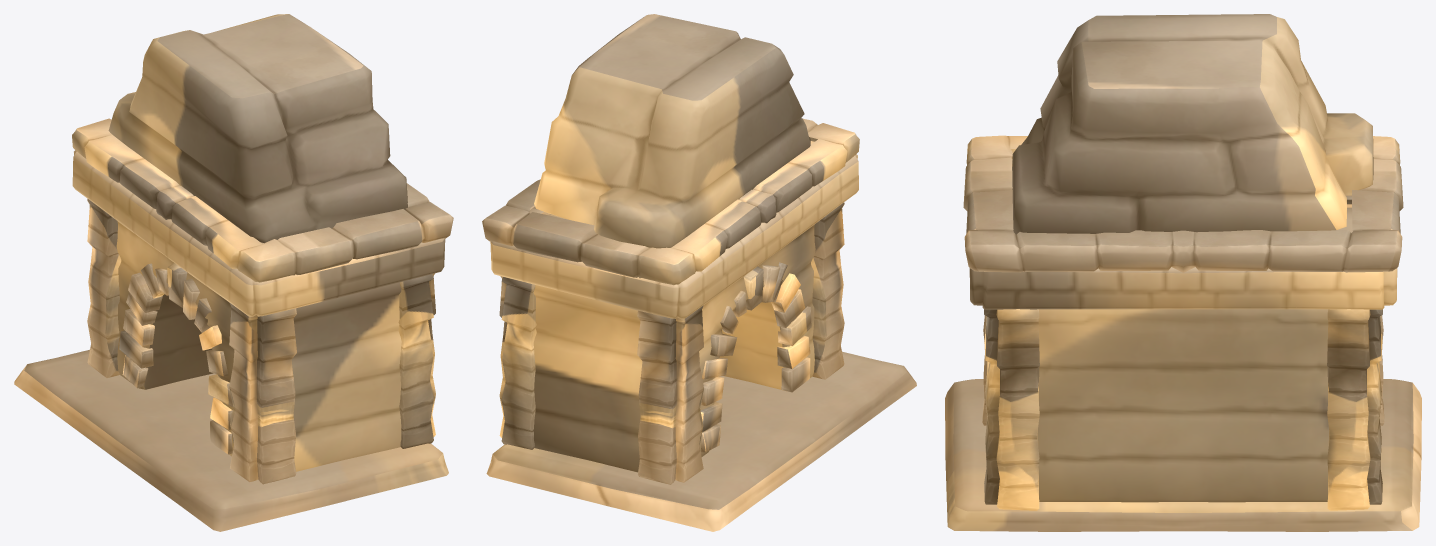
Rendered from SM_Fireplace.fbx.
3 renders of one model, left to right at view 1: azimuth 30°, elevation 25°; view 2: azimuth 150°, elevation 25°; view 3: azimuth 270°, elevation 25°, orthographic. The views are drawn at different scales.
Visible parts, largest first — view 1: SM_Fireplace_LOD0; view 2: SM_Fireplace_LOD0; view 3: SM_Fireplace_LOD0.
Part boxes in pixels (x1,y1,x2,y2): SM_Fireplace_LOD0: (14, 14, 453, 531); SM_Fireplace_LOD0: (482, 14, 916, 531); SM_Fireplace_LOD0: (945, 14, 1421, 531).
Bounding box in the file's own units: 137 × 197 × 196.
